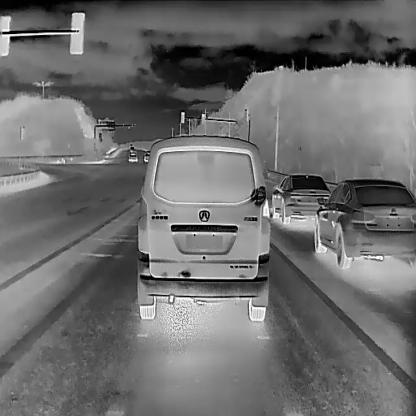car: (136, 132, 272, 324), (311, 176, 415, 270), (269, 172, 332, 226), (127, 148, 136, 161), (141, 149, 150, 161)
